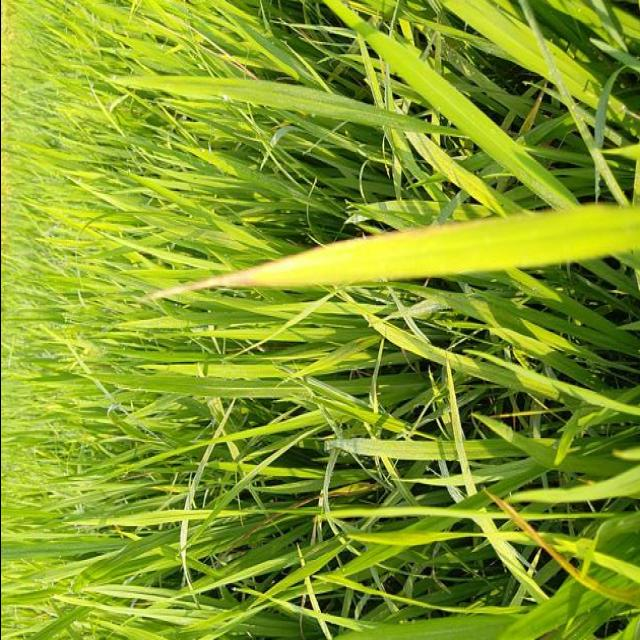Leaf Blight: (141, 232, 420, 301)
